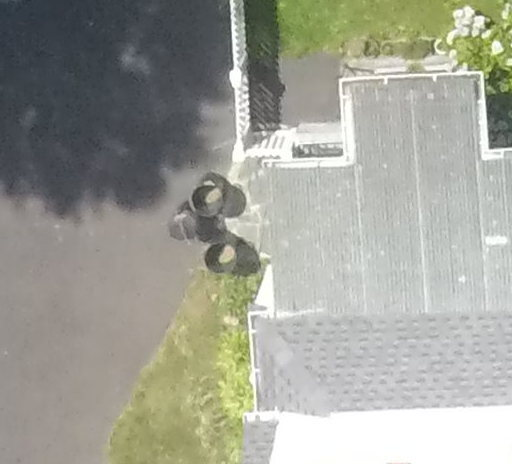container: (179, 167, 226, 220), (197, 229, 243, 279), (162, 207, 199, 245)
fence: (223, 1, 299, 164)
trash bin: (182, 165, 232, 221), (203, 231, 242, 278), (161, 205, 202, 243)
